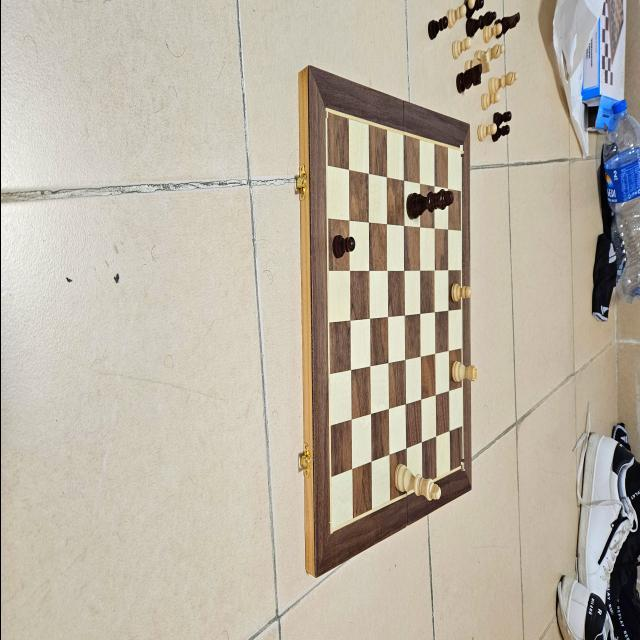chess-table-corners: (328, 521, 336, 536), (322, 103, 328, 118), (460, 459, 466, 471), (458, 145, 462, 157)
